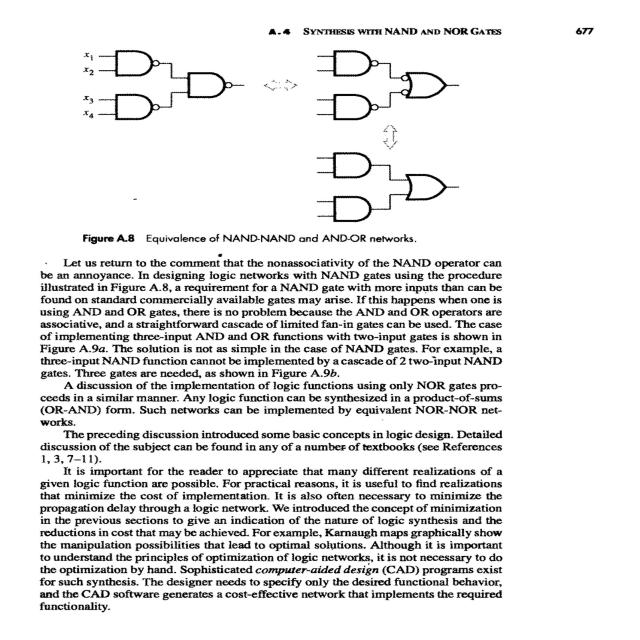diagram: (20, 45, 529, 254)
